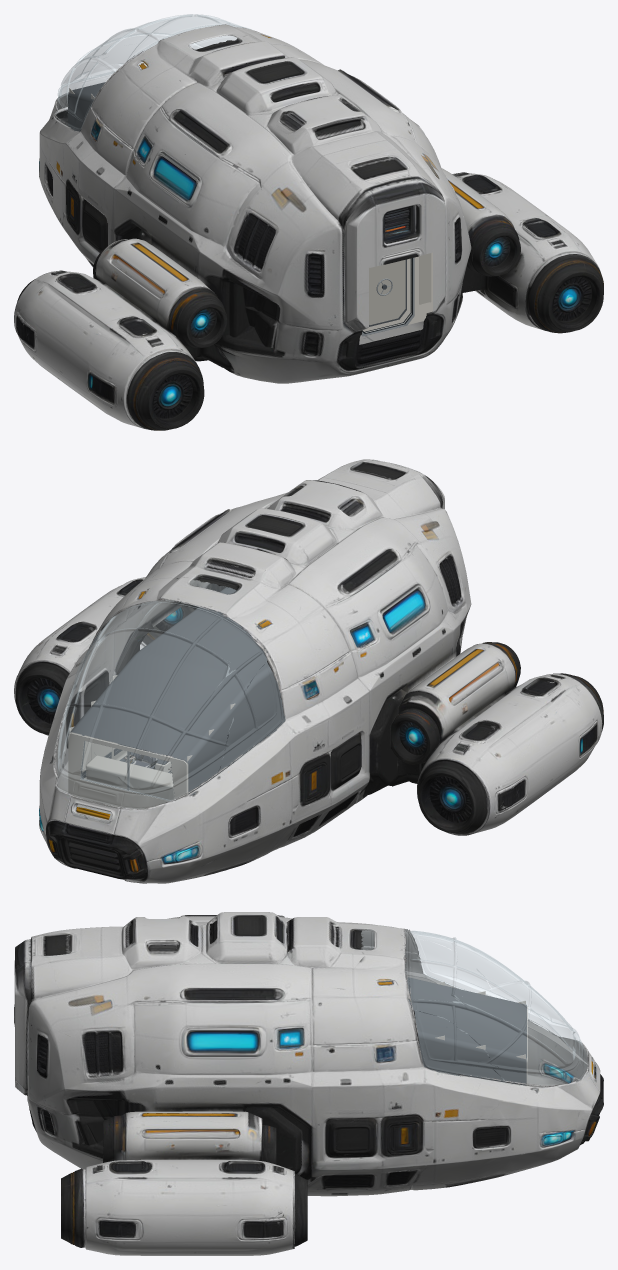
Rendered from 前挡玻璃-r2接缝对齐-r7.glb.
3 renders of one model, top to bottom at view 1: azimuth 30°, elevation 25°; view 2: azimuth 150°, elevation 25°; view 3: azimuth 270°, elevation 25°, orthographic. The views are drawn at different scales.
Parts seen in each view (by area): view 1: Exterior_Hull_90_0, Canopy_Glass_91_0, airlock-outer-door_9, Door_Outer-bulkhead_0, cockpit-wall-left_1, Door_Outer-bulkhead_9; view 2: Exterior_Hull_90_0, Canopy_Glass_91_0, cockpit-ceiling_1, rear-cabin-ceiling_1, front-window-frame_0, cockpit-wall-left_1, main-console_0, rear-cabin-wall-left_1; view 3: Exterior_Hull_90_0, Canopy_Glass_91_0, cockpit-ceiling_1, cockpit-wall-right_1.
Part boxes in pixels (x1,y1,x2,y2): Exterior_Hull_90_0: (14,24,603,430); Canopy_Glass_91_0: (55,14,253,118); airlock-outer-door_9: (369,260,405,325); Door_Outer-bulkhead_0: (360,252,432,336); cockpit-wall-left_1: (68,93,93,131); Door_Outer-bulkhead_9: (419,253,431,304); Exterior_Hull_90_0: (14,459,603,883); Canopy_Glass_91_0: (51,580,266,822); cockpit-ceiling_1: (70,654,251,761); rear-cabin-ceiling_1: (135,587,271,683); front-window-frame_0: (68,733,187,809); cockpit-wall-left_1: (187,684,253,795); main-console_0: (86,755,174,800); rear-cabin-wall-left_1: (252,669,285,747); Exterior_Hull_90_0: (14,912,603,1255); Canopy_Glass_91_0: (361,929,596,1091); cockpit-ceiling_1: (405,977,526,1058); cockpit-wall-right_1: (418,1033,526,1085).
Size of the model in its own units: 14.46 by 6.95 by 16.
Materials: 47 (14 with a texture image).
